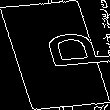P_W: (5, 33, 105, 77)
